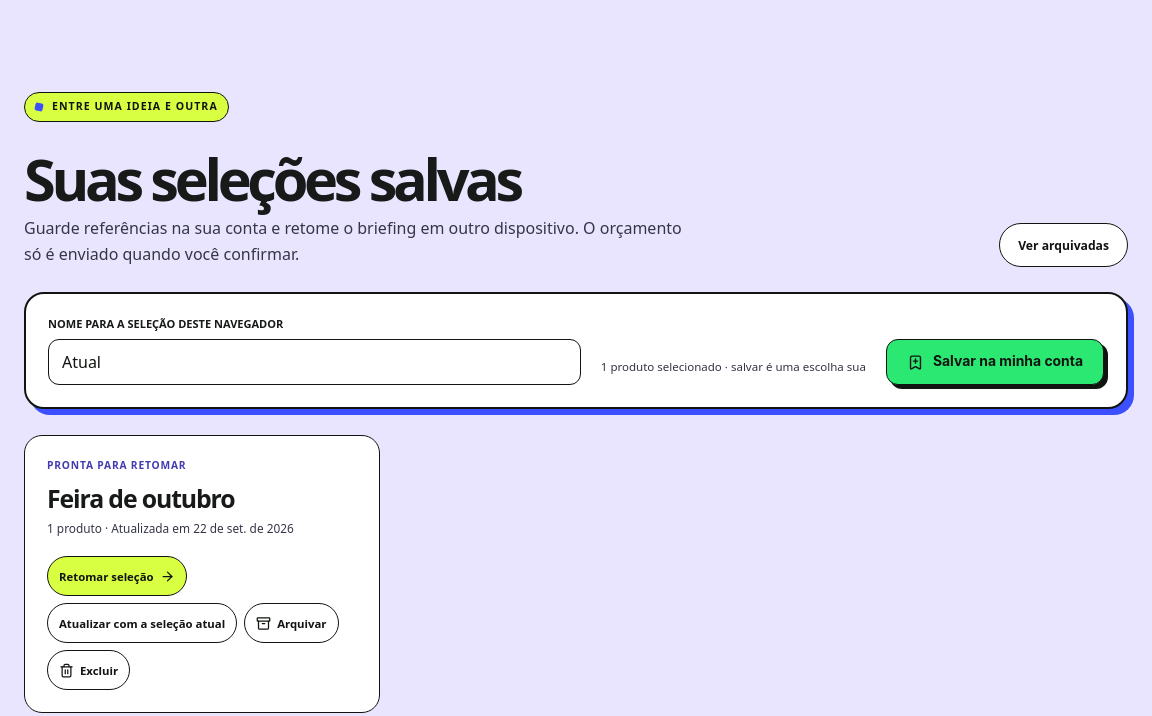
Scenario: seleções salvas na Área do Cliente › compara conflito entre dispositivos e permite preservar as duas versões
The width and height of the screenshot is (1152, 716).
Click the button "Atualizar com a seleção atual": coordinates (142, 623) [47, 603, 237, 643]
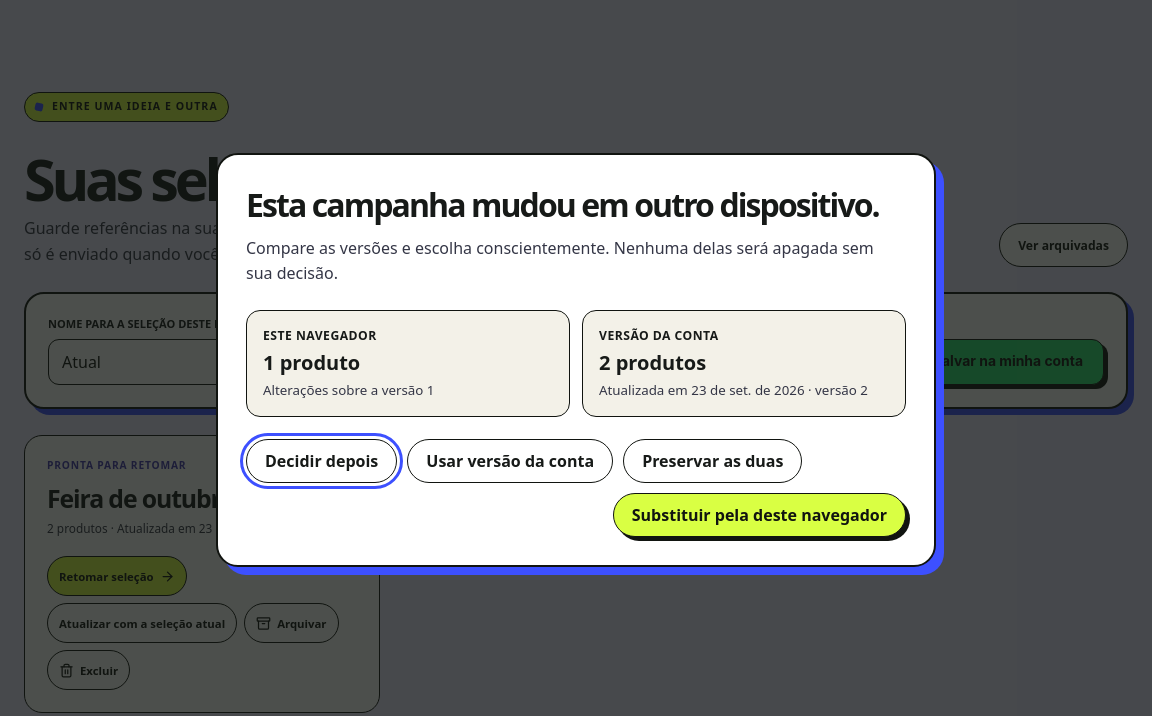
Expected: the dialog "Esta campanha mudou em outro dispositivo." is shown, [216, 153, 936, 567]
Expected: the element named "Versão deste navegador" shows "1 produto", [246, 310, 570, 417]
Expected: the element named "Versão salva na conta" shows "2 produtos", [582, 310, 906, 417]
Click the button "Preservar as duas": coordinates (713, 461) [623, 439, 802, 483]
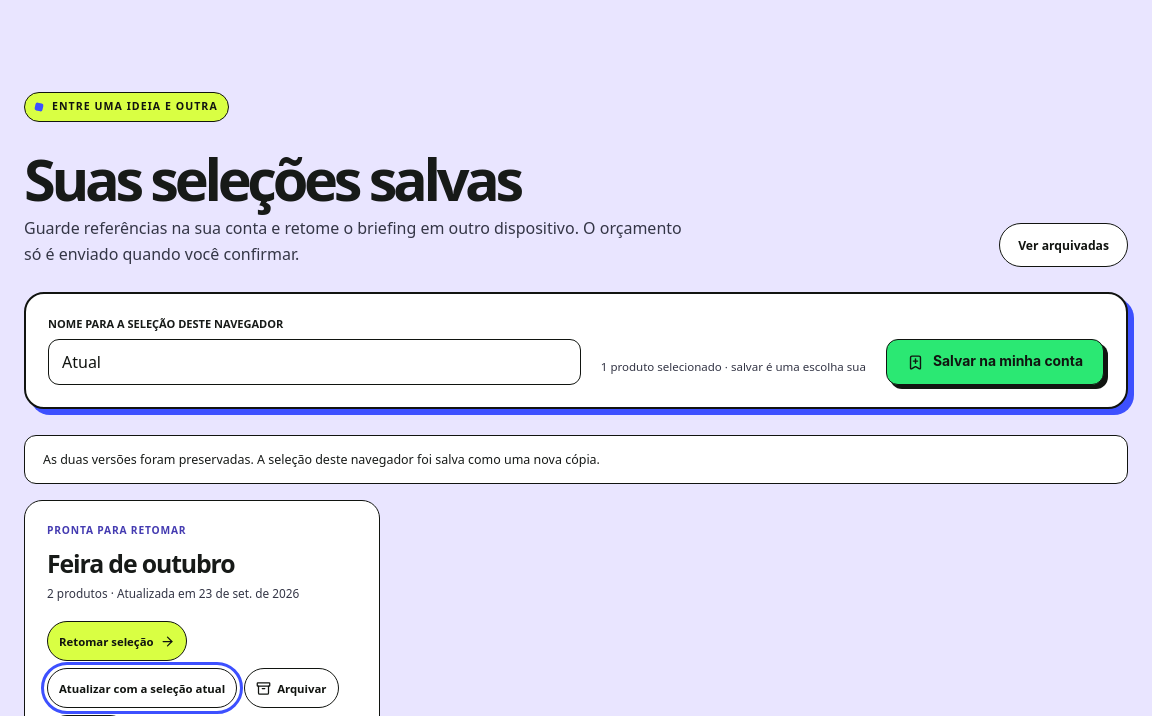
Expected: the text "As duas versões foram preservadas" is shown, [43, 451, 600, 468]
